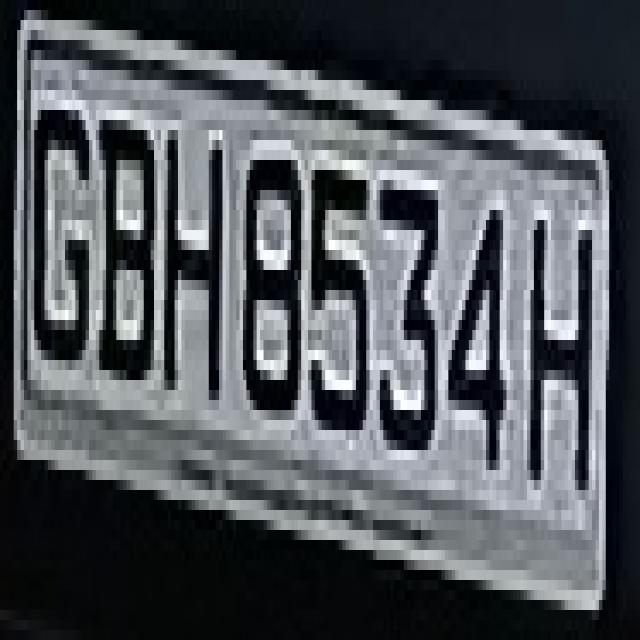3: (373, 120, 438, 510)
4: (438, 150, 510, 490)
5: (301, 130, 377, 460)
8: (240, 110, 304, 450)
B: (92, 80, 161, 410)
G: (24, 80, 92, 380)
H: (520, 150, 602, 520), (164, 110, 230, 450)
